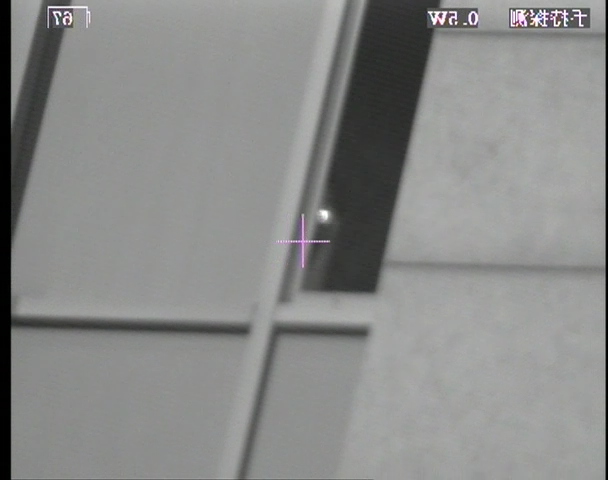my: (315, 207, 329, 223)
